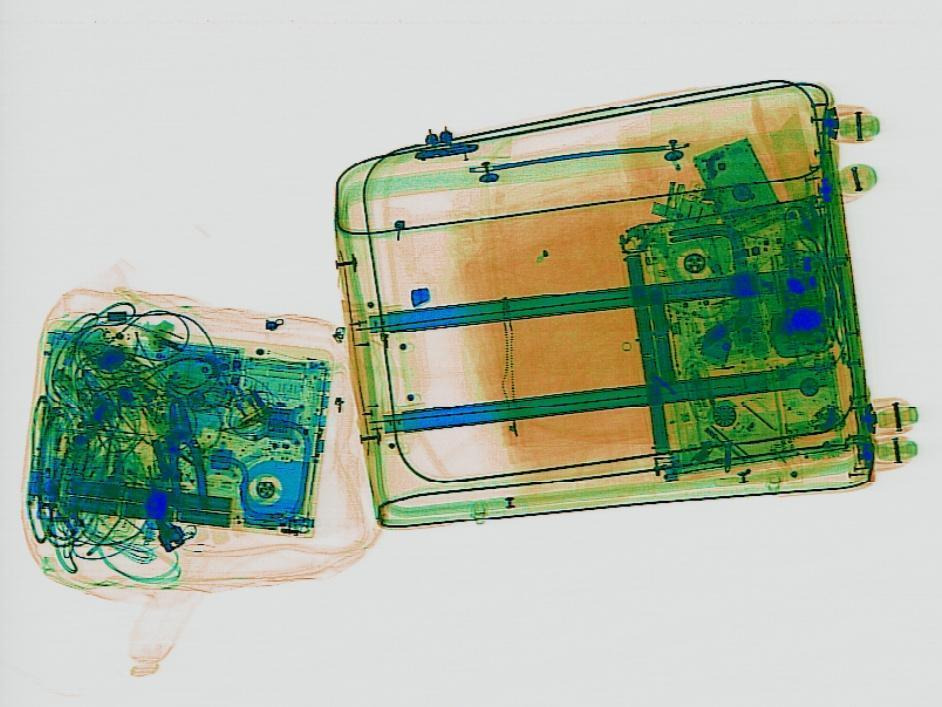Pliers: (157, 395, 208, 515)
